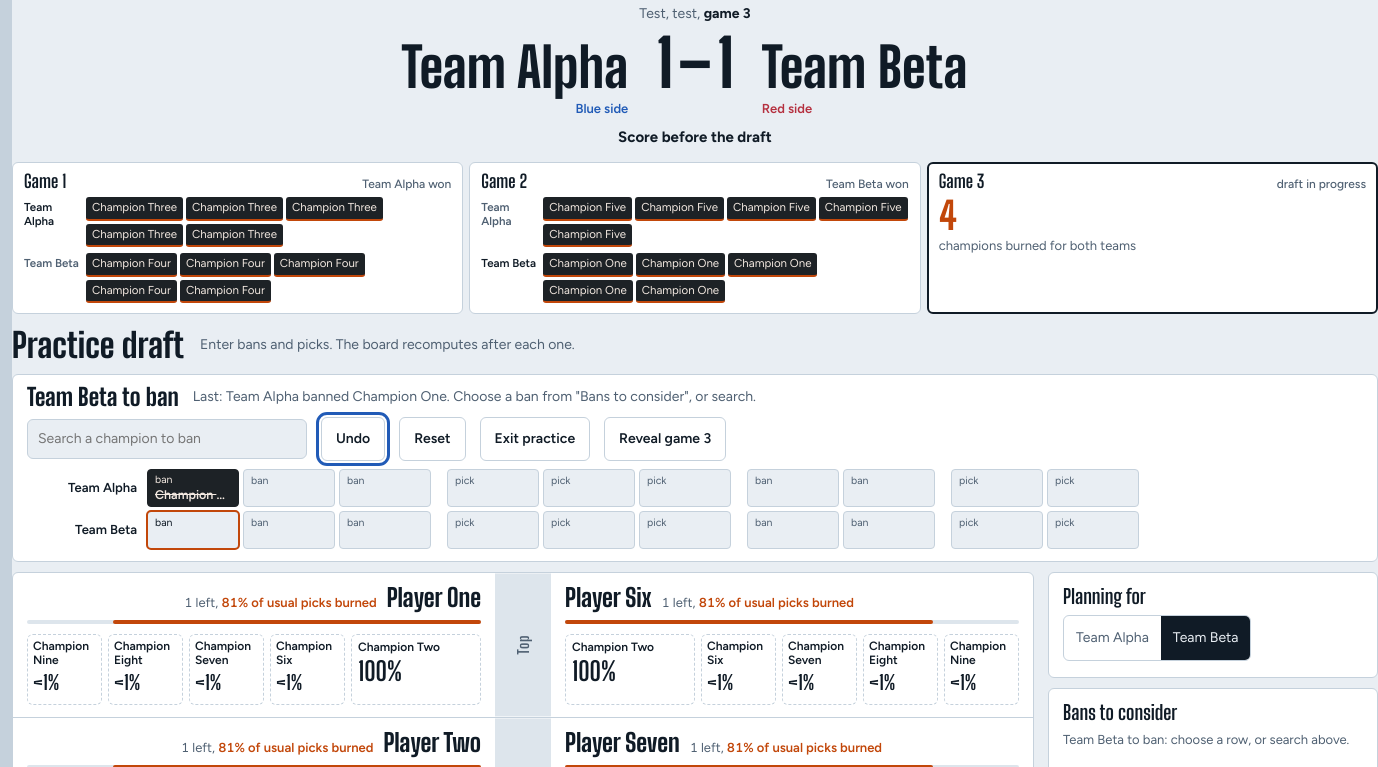
Test case: Interaction: practice draft focus › Undo of the last action stays focusable, so the keyboard does not lose its place
The width and height of the screenshot is (1378, 767).
Click the button with id "draft-undo": (353, 440) x1=321 y1=418 x2=385 y2=462
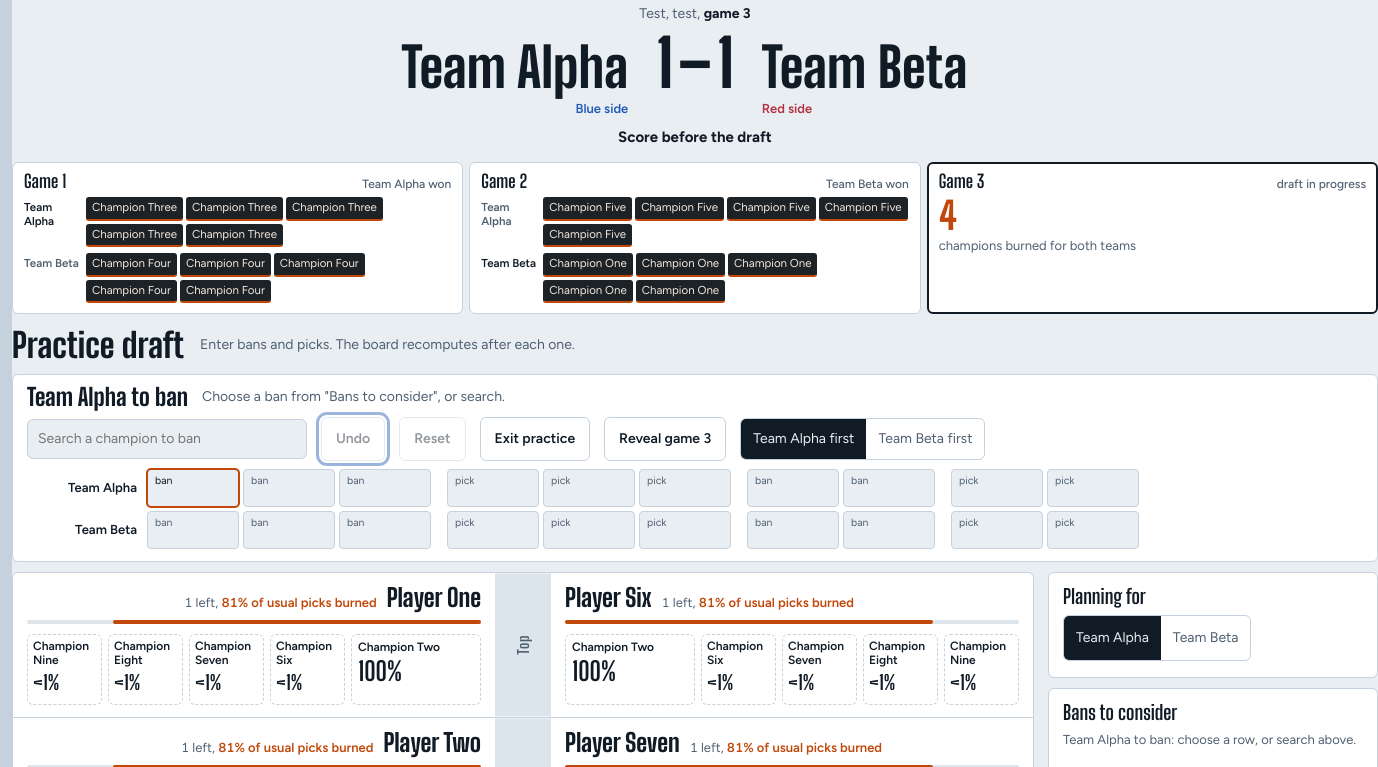
Expected: the button with id "draft-undo" is enabled, x1=321 y1=418 x2=385 y2=462
